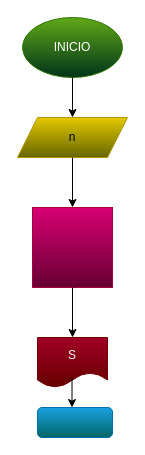
The diagram is 145 pixels wide and 455 high, and some of its shapes have lost their labels. The centre of each missing label's shape, as x and y in pixels:
"FIN" belongs at pixel 74 422.
"S= n (n+1)/2" belongs at pixel 72 247.
